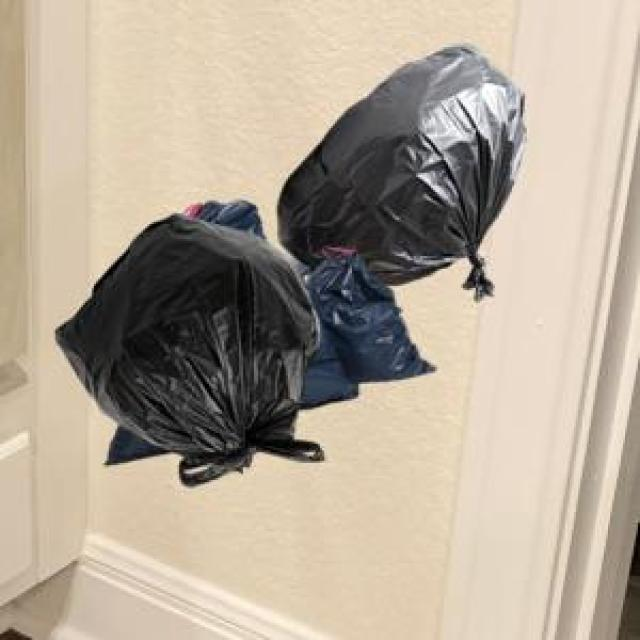waste: (58, 48, 524, 486)
